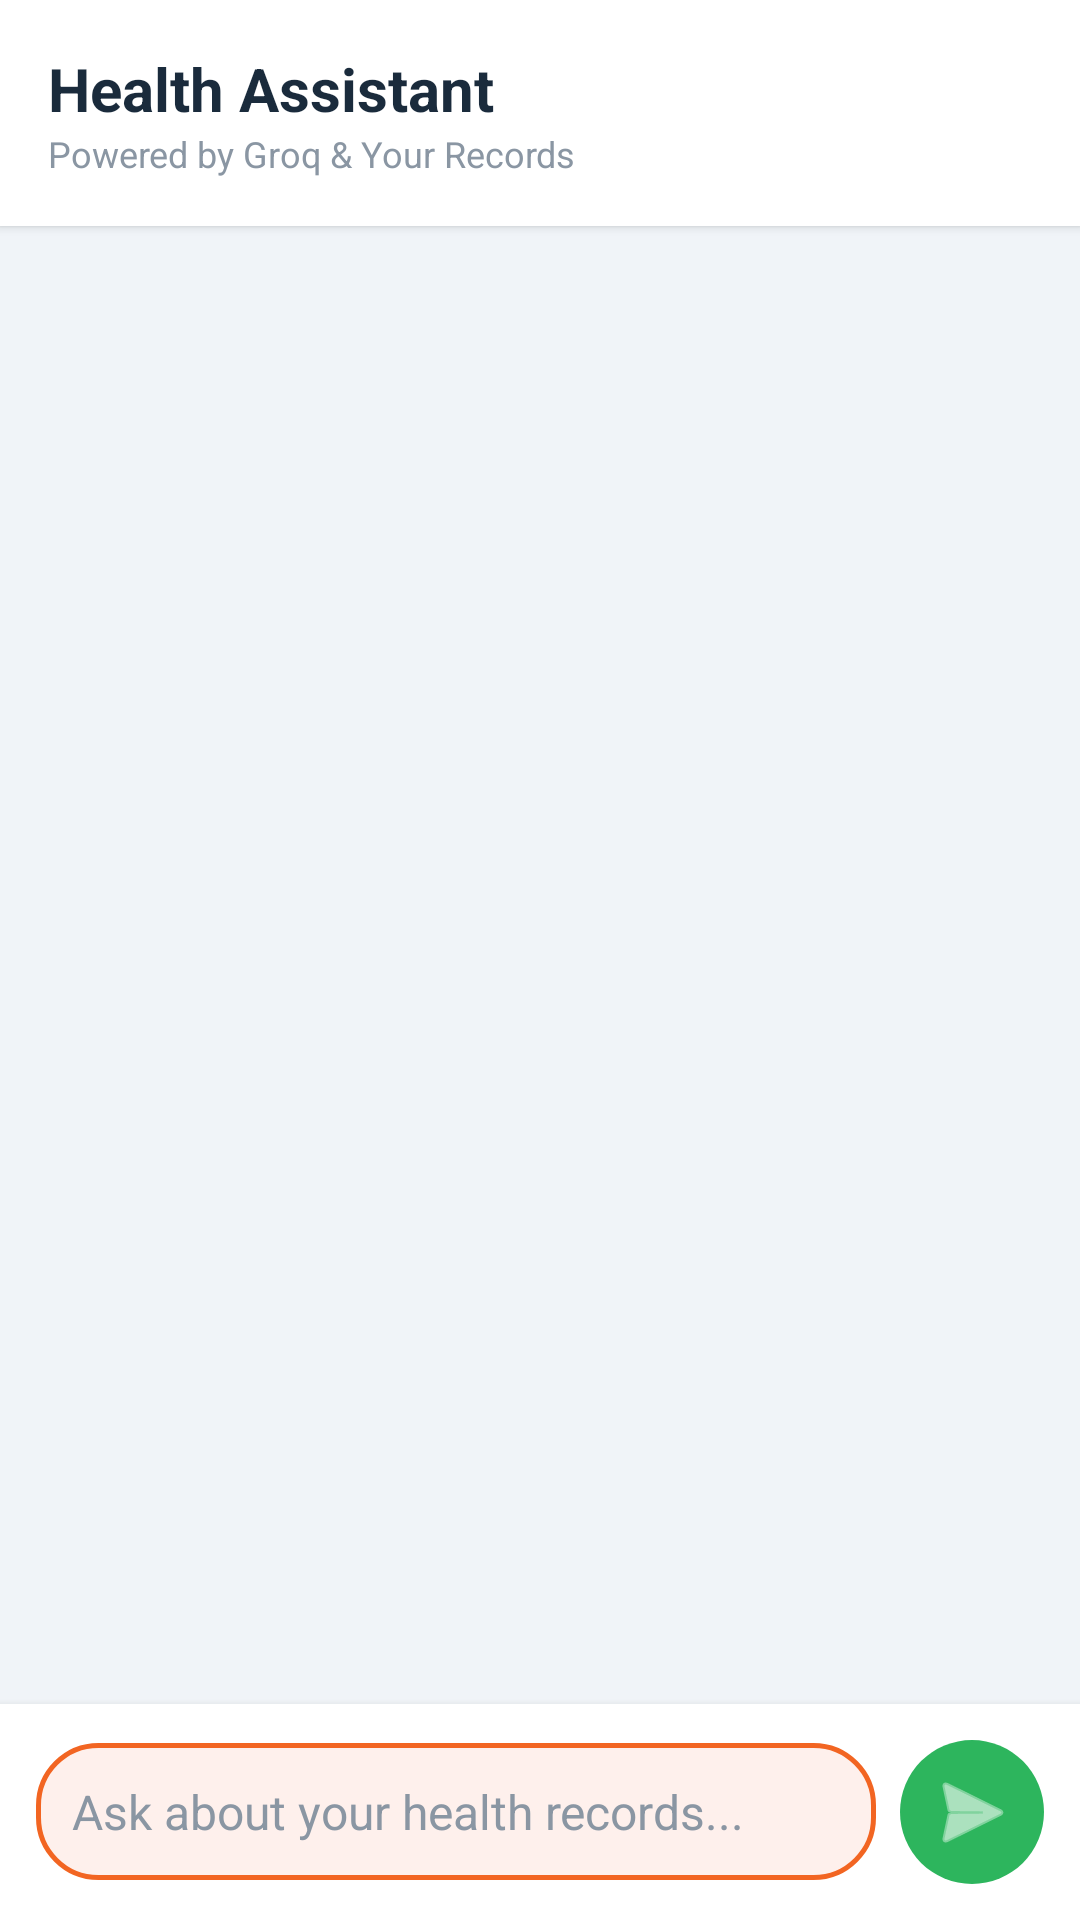

Icon bounding boxes for this 1080px×1920px phone screenshot, format (x1, y1, x2, y2):
send: (900, 1740, 1044, 1884)
